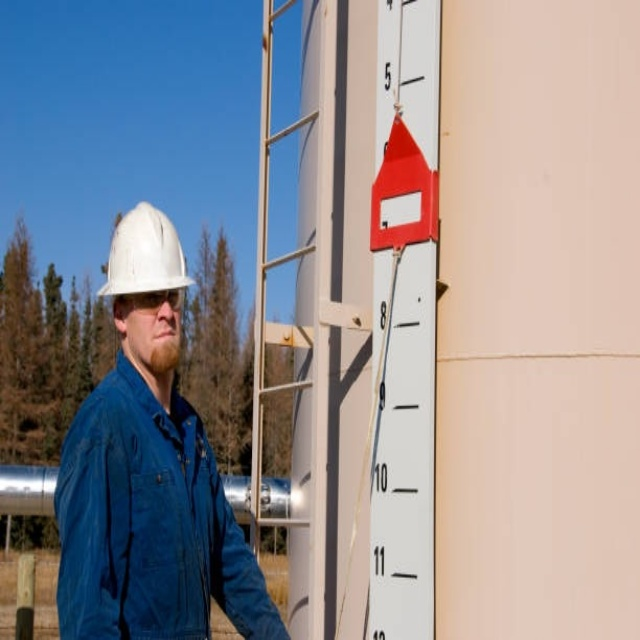Gafas: (124, 289, 182, 312)
Sin_mascara: (147, 325, 182, 362)
